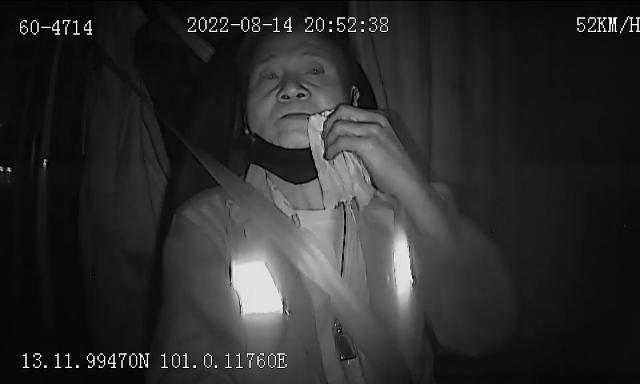SafeDriving: (254, 63, 288, 92)
Seatbelt: (184, 140, 414, 384)
